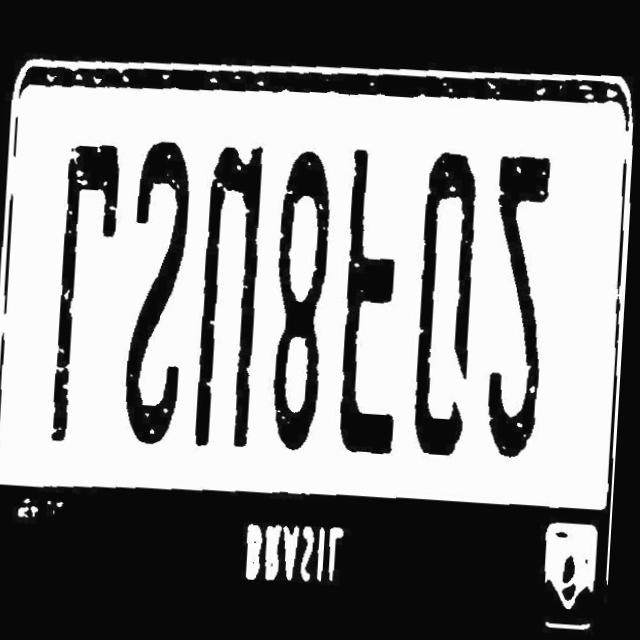0: (413, 142, 496, 454)
2: (485, 143, 579, 456)
8: (264, 140, 345, 450)
f: (333, 138, 424, 454)
l: (41, 136, 131, 456)
s: (118, 128, 204, 453)
u: (185, 138, 271, 444)
